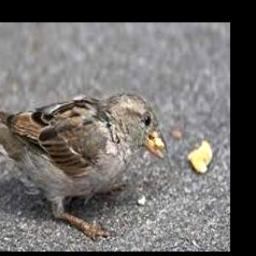Sparrow: (0, 92, 169, 240)
